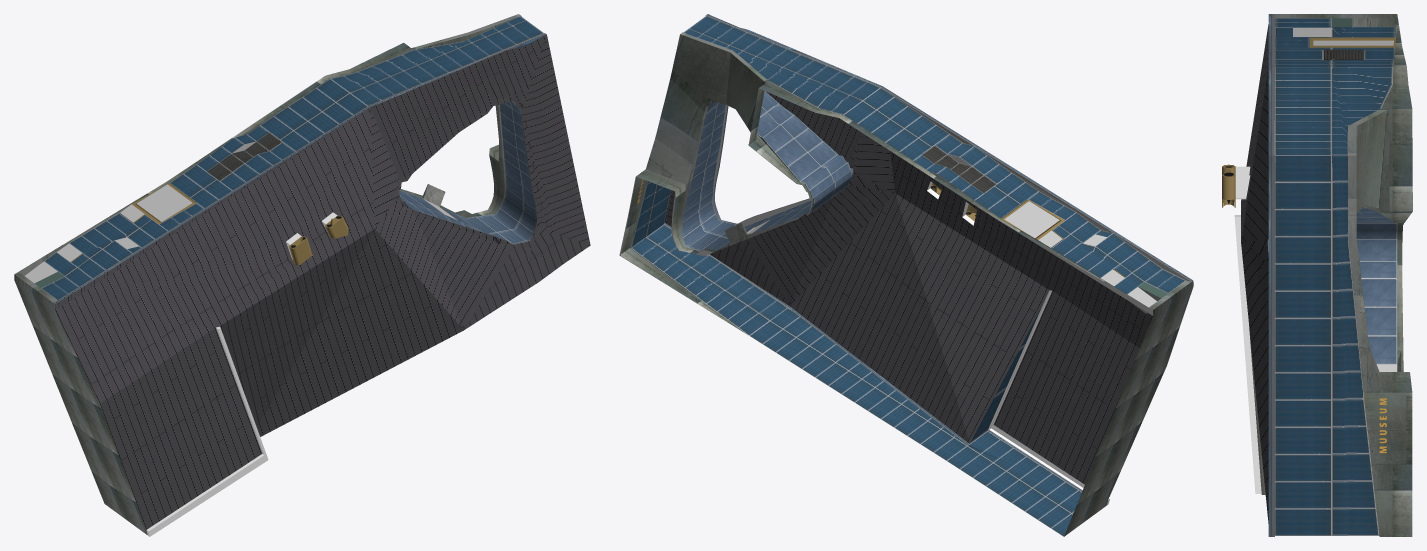
Rendered from Toompea8_1-origo.obj.
The picture shows the model from 3 angles, left to right: view 1: azimuth 30°, elevation 25°; view 2: azimuth 150°, elevation 25°; view 3: azimuth 270°, elevation 25°; orthographic projection. The views are drawn at different scales.
Parts seen in each view (by area): view 1: Box001; view 2: Box001; view 3: Box001.
Boxes of the visible parts, x1,y1,x2,y2 form: Box001: (14,14,590,536); Box001: (619,14,1193,536); Box001: (1222,14,1412,536).
Size of the model in its own units: 46.75 by 33.5 by 9.2.
